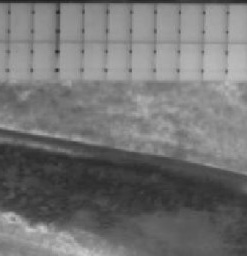solar: (176, 40, 205, 83), (200, 40, 229, 83), (200, 1, 229, 44), (176, 1, 205, 44), (152, 1, 181, 44), (129, 1, 158, 43), (104, 1, 133, 43), (80, 1, 109, 43), (56, 1, 85, 43), (27, 1, 56, 43), (5, 1, 34, 43), (5, 39, 34, 80), (28, 39, 57, 80), (57, 39, 86, 80), (80, 39, 109, 80), (104, 39, 133, 80), (128, 40, 157, 81), (152, 40, 181, 81)
